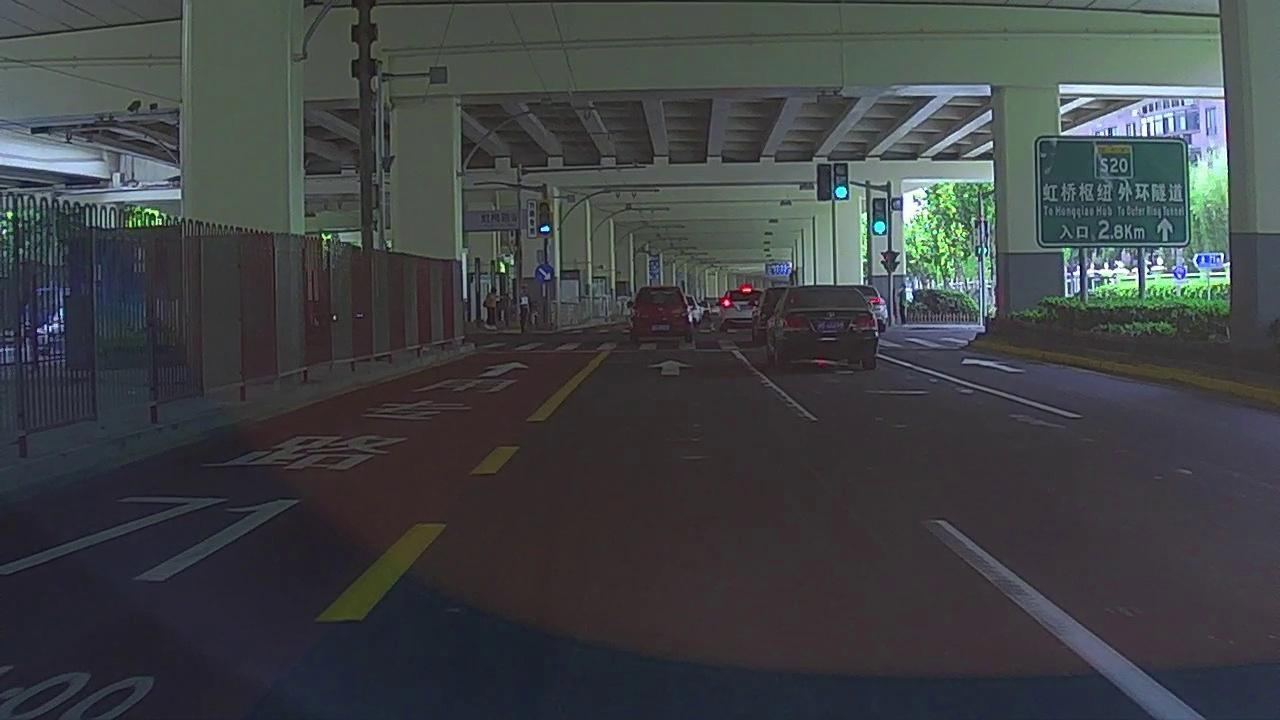traffic_light: (872, 197, 887, 236), (833, 164, 849, 200), (817, 164, 832, 201)
